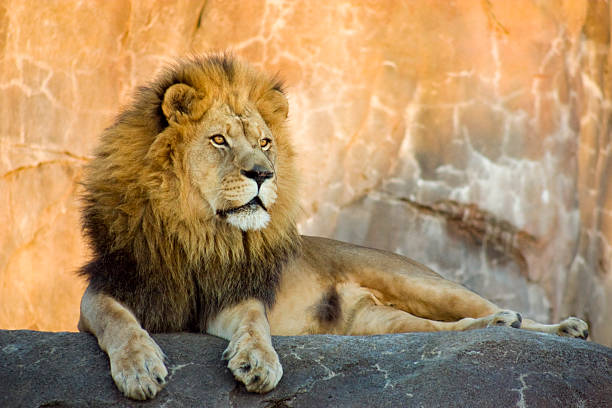lion: (50, 29, 314, 334)
